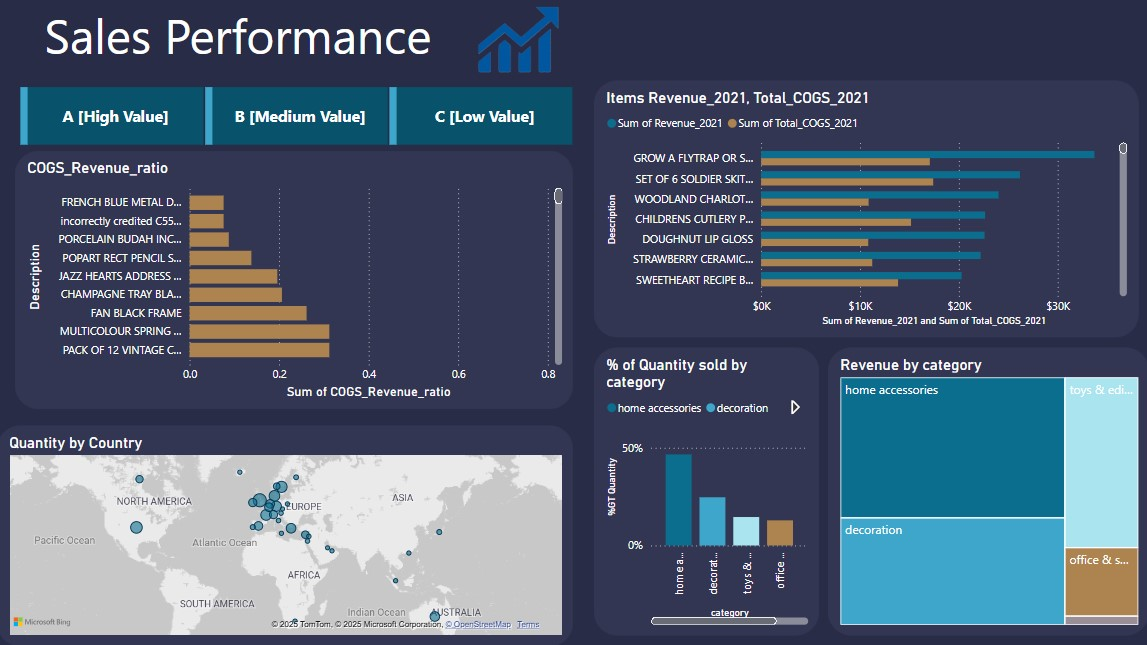

Layout of this report page (visuals, bound fields, positions):
{"tool":"powerbi","page":{"name":"Sales and Profit","canvas":[1280,720],"ordinal":1},"visuals":[{"type":"textbox","box":[0,0,535,91.7],"z":0},{"type":"columnChart","title":"% of  Quantity sold by category","fields":{"Category":["categories.category"],"Y":["Divide(Sum(Orders.Quantity), ScopedEval(Sum(Orders.Quantity), []))"],"Series":["categories.category"]},"box":[663.3,388.3,250,320],"z":1000},{"type":"map","fields":{"Category":["Orders.Country"],"Size":["Sum(Orders.Quantity)"]},"box":[0,475,640,245],"z":2000},{"type":"treemap","title":"Revenue by category","fields":{"Group":["categories.category"],"Values":["Sum(Stock.Revenue_2021)"]},"box":[923.3,388.3,356.7,320],"z":3000},{"type":"clusteredBarChart","title":"Items Revenue_2021, Total_COGS_2021 ","fields":{"Y":["Sum(Stock.Revenue_2021)","Sum(Stock.Total_COGS)"],"Category":["Stock.Description"]},"box":[663.3,91.7,605,285],"z":4000},{"type":"slicer","title":"Items Class","fields":{"Values":["ABC.ABC"]},"box":[0,91.7,663.3,78.3],"z":5000},{"type":"clusteredBarChart","title":" COGS_Revenue_ratio ","fields":{"Y":["Sum(Stock.COGS_Revenue_ratio)"],"Category":["Stock.Description"]},"box":[20,170,620,286.7],"z":6000},{"type":"image","box":[518.3,0,121.7,91.7],"z":7000}]}

Visuals, with their boxes in screenshot pixels (x1, y1, x2, y2), scaled from the page's 1280x720 canvas onto the 1147x645 screenshot:
textbox: crop(0, 0, 479, 82)
"% of  Quantity sold by category" columnChart: crop(594, 348, 818, 635)
map - Orders.Country x Sum(Orders.Quantity): crop(0, 426, 574, 644)
"Revenue by category" treemap: crop(827, 348, 1146, 635)
"Items Revenue_2021, Total_COGS_2021 " clusteredBarChart: crop(594, 82, 1137, 337)
"Items Class" slicer: crop(0, 82, 594, 152)
" COGS_Revenue_ratio " clusteredBarChart: crop(18, 152, 574, 409)
image: crop(464, 0, 574, 82)
